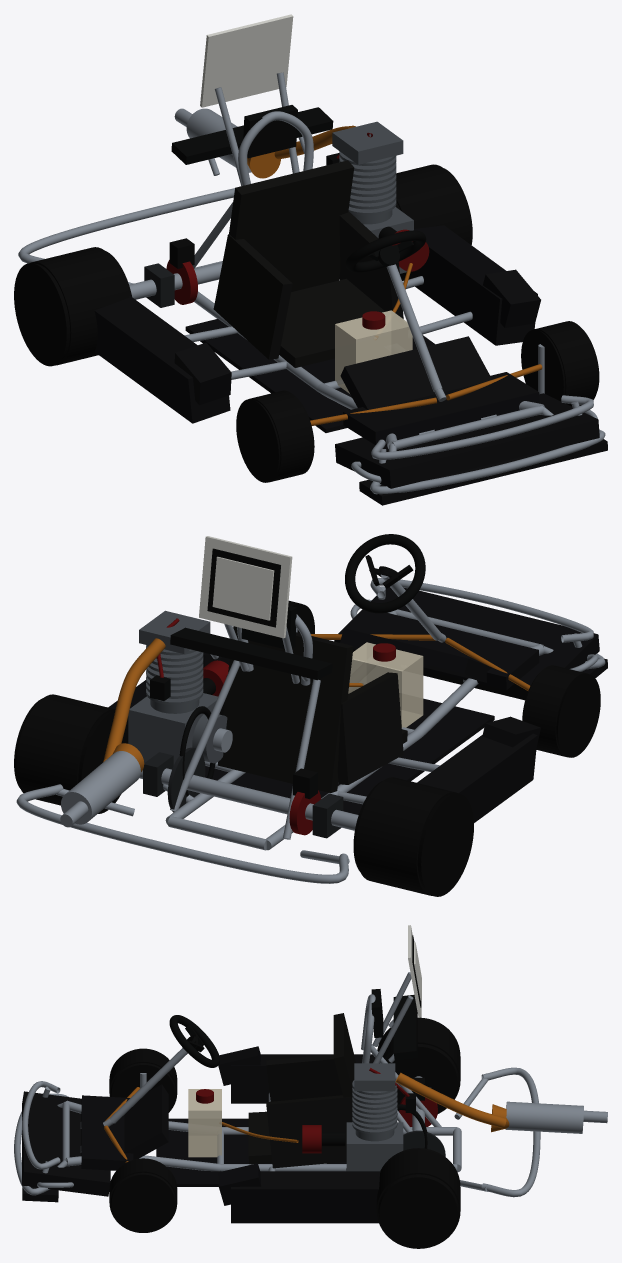
Rendered from RacingKart.obj.
The picture shows the model from 3 angles, top to bottom: view 1: azimuth 30°, elevation 25°; view 2: azimuth 150°, elevation 25°; view 3: azimuth 270°, elevation 25°; orthographic projection. The views are drawn at different scales.
Parts seen in each view (by area): view 1: seat_back, nose_fairing, sidepod_l, sidepod_r, front_panel, seat_bolster_l, number_plate, nose_upper, wheel_rear_left_tire, seat_base, floor_tray, wheel_rear_left_sidewall_i (+28 smaller); view 2: seat_back, wheel_rear_left_tire, nose_fairing, wheel_rear_right_tire, seat_bolster_l, sidepod_l, floor_tray, nose_upper, wheel_rear_left_sidewall_i, bumper_rear, rear_wing, crankcase (+35 smaller); view 3: sidepod_r, nose_fairing, wheel_rear_right_sidewall_o, seat_bolster_r, wheel_front_right_sidewall_o, seat_bolster_l, nose_upper, floor_tray, front_panel, wheel_rear_right_tire, exhaust_muffler, wheel_rear_left_sidewall_o (+28 smaller).
Boxes of the visible parts, x1,y1,x2,y2 form: seat_back: (229,160,354,291); nose_fairing: (335,393,599,488); sidepod_l: (94,296,230,423); sidepod_r: (400,225,537,345); front_panel: (340,336,492,409); seat_bolster_l: (213,234,292,359); number_plate: (200,14,293,107); nose_upper: (343,372,539,444); wheel_rear_left_tire: (30,247,129,365); seat_base: (279,278,385,367); floor_tray: (185,319,434,432); wheel_rear_left_sidewall_i: (14,263,70,366); seat_back: (217,626,353,792); wheel_rear_left_tire: (356,777,457,895); nose_fairing: (334,587,599,700); wheel_rear_right_tire: (16,694,115,805); seat_bolster_l: (337,672,403,784); sidepod_l: (417,733,537,822); floor_tray: (205,698,494,814); nose_upper: (351,612,539,690); wheel_rear_left_sidewall_i: (417,793,473,896); bumper_rear: (16,784,348,883); rear_wing: (170,627,332,680); crankcase: (128,693,219,765); sidepod_r: (231,1171,380,1223); nose_fairing: (22,1091,110,1196); wheel_rear_right_sidewall_o: (378,1174,458,1247); seat_bolster_r: (266,1095,352,1168); wheel_front_right_sidewall_o: (110,1172,175,1231); seat_bolster_l: (266,1054,342,1101); nose_upper: (81,1095,133,1170); floor_tray: (156,1118,346,1186); front_panel: (124,1084,168,1159); wheel_rear_right_tire: (376,1149,460,1248); exhaust_muffler: (505,1101,583,1133); wheel_rear_left_sidewall_o: (385,1044,458,1112).
Size of the model in its own units: 1.45 by 0.9893 by 2.31.
